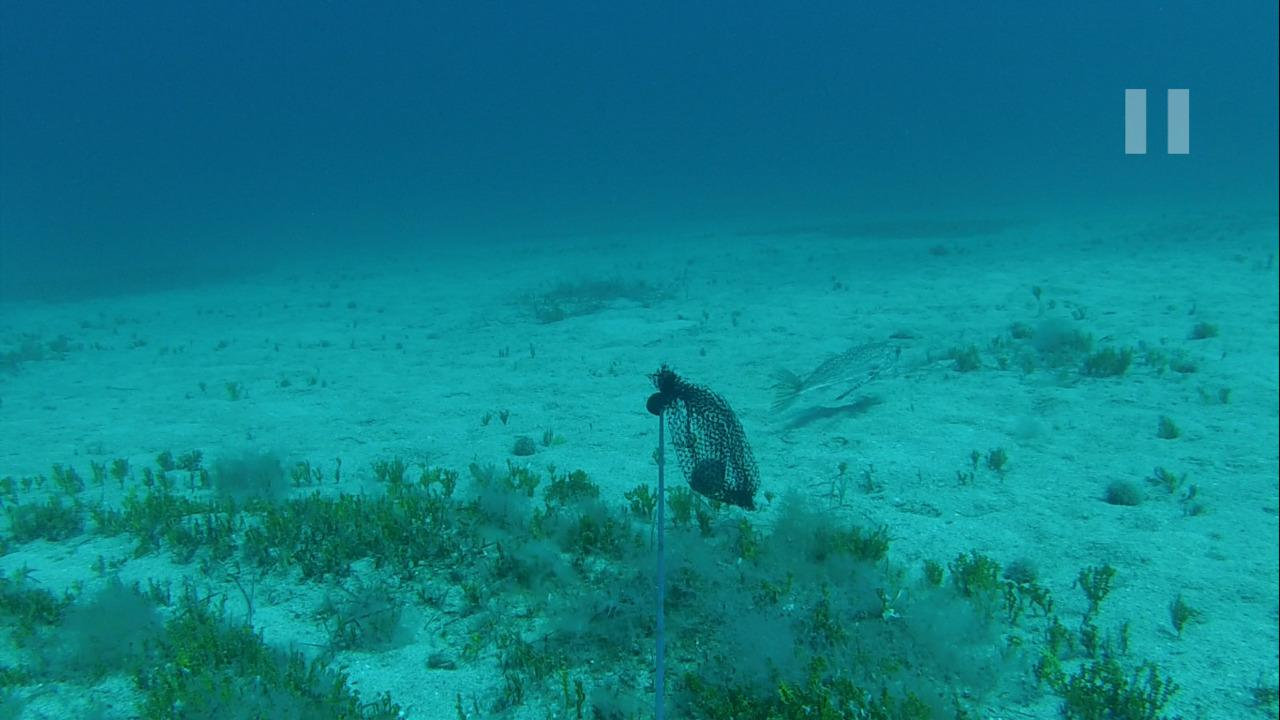dactylopterus: (764, 334, 911, 407)
